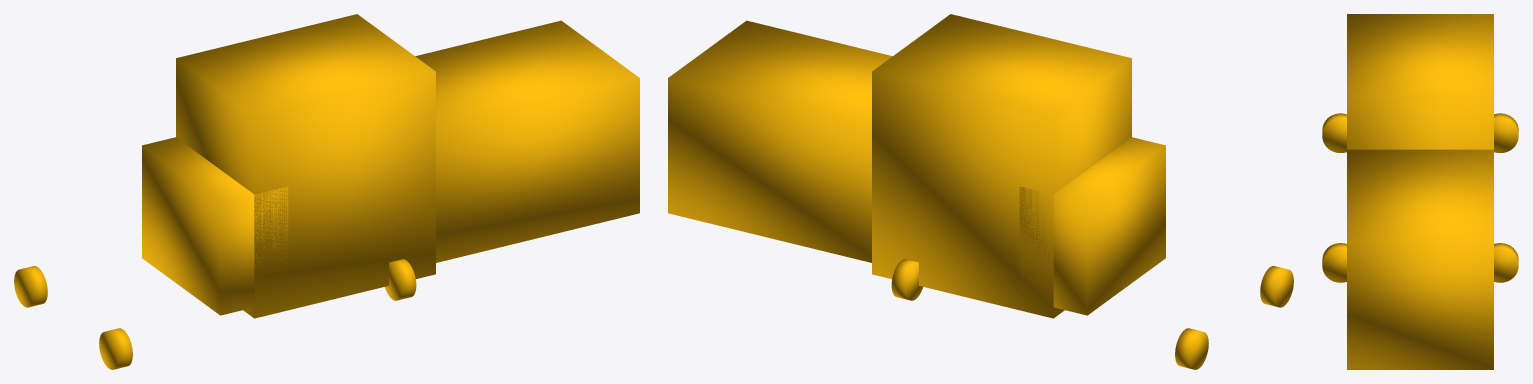
Rendered from Altec_eWorker_50_Orange.glb.
3 renders of one model, left to right at view 1: azimuth 30°, elevation 25°; view 2: azimuth 150°, elevation 25°; view 3: azimuth 270°, elevation 25°, orthographic. The views are drawn at different scales.
Parts seen in each view (by area): view 1: Altec_eWorker_50; view 2: Altec_eWorker_50; view 3: Altec_eWorker_50.
Part boxes in pixels (box(x1,y1,x2,y2)): Altec_eWorker_50: box(14, 14, 639, 369); Altec_eWorker_50: box(668, 14, 1293, 369); Altec_eWorker_50: box(1322, 14, 1518, 369).
Bounding box in the file's own units: 9.43 × 3.61 × 3.2.
